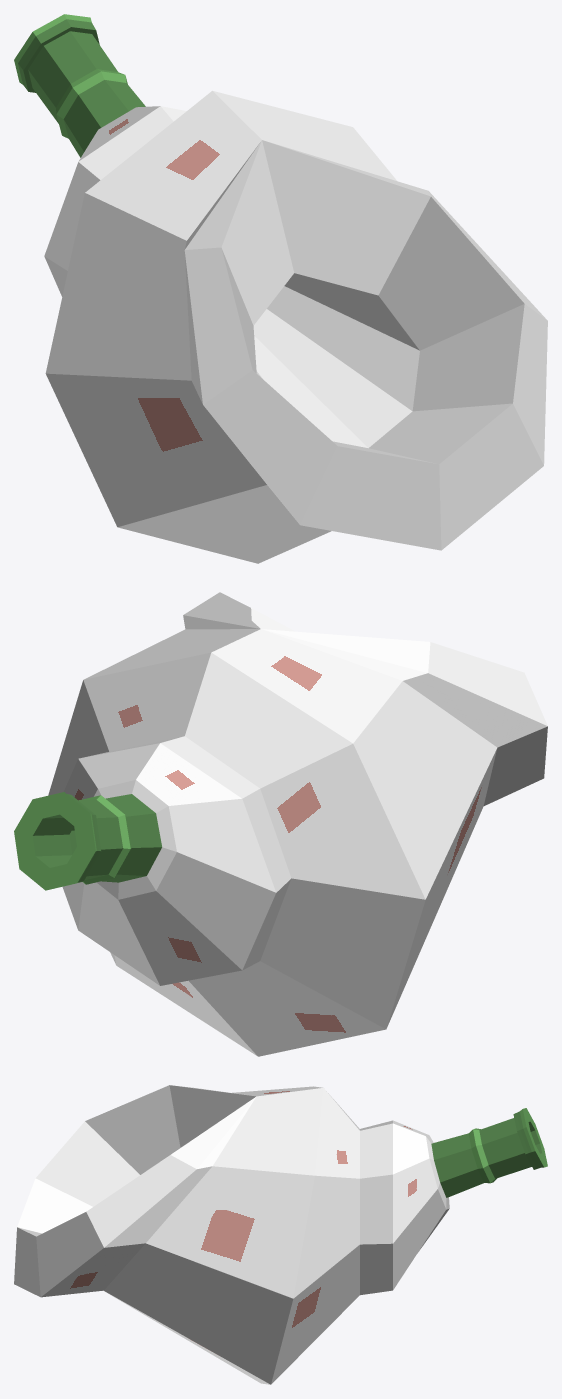
The model's file is shellwhistle.fbx.
3 renders of one model, top to bottom at view 1: azimuth 30°, elevation 25°; view 2: azimuth 150°, elevation 25°; view 3: azimuth 270°, elevation 25°, orthographic. The views are drawn at different scales.
Parts seen in each view (by area): view 1: shell; view 2: shell; view 3: shell.
Part boxes in pixels (box(x1,y1,x2,y2)): shell: box(14, 14, 547, 563); shell: box(14, 592, 547, 1056); shell: box(14, 1085, 547, 1384).
Bounding box in the file's own units: 327 × 361 × 590.
1 material, 1 textured.
